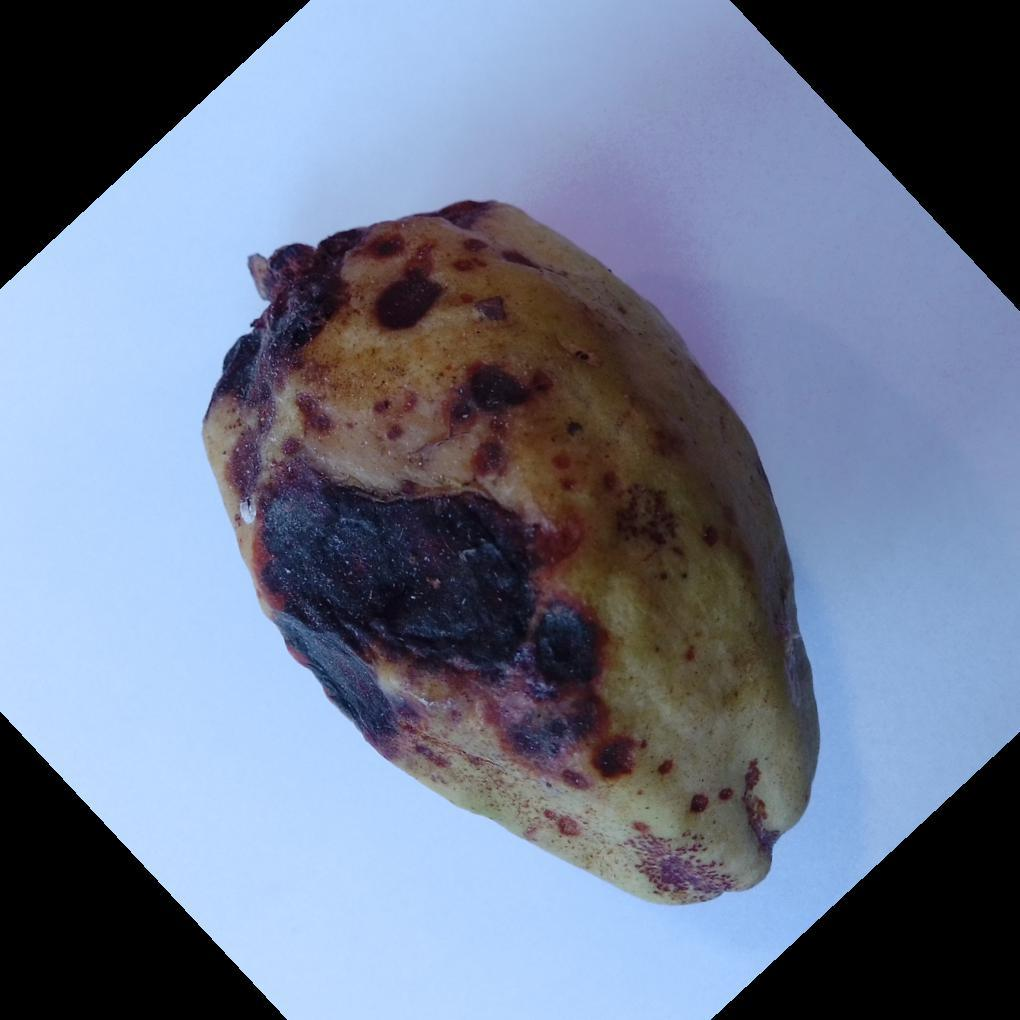FreshOrange: (200, 201, 822, 910)
